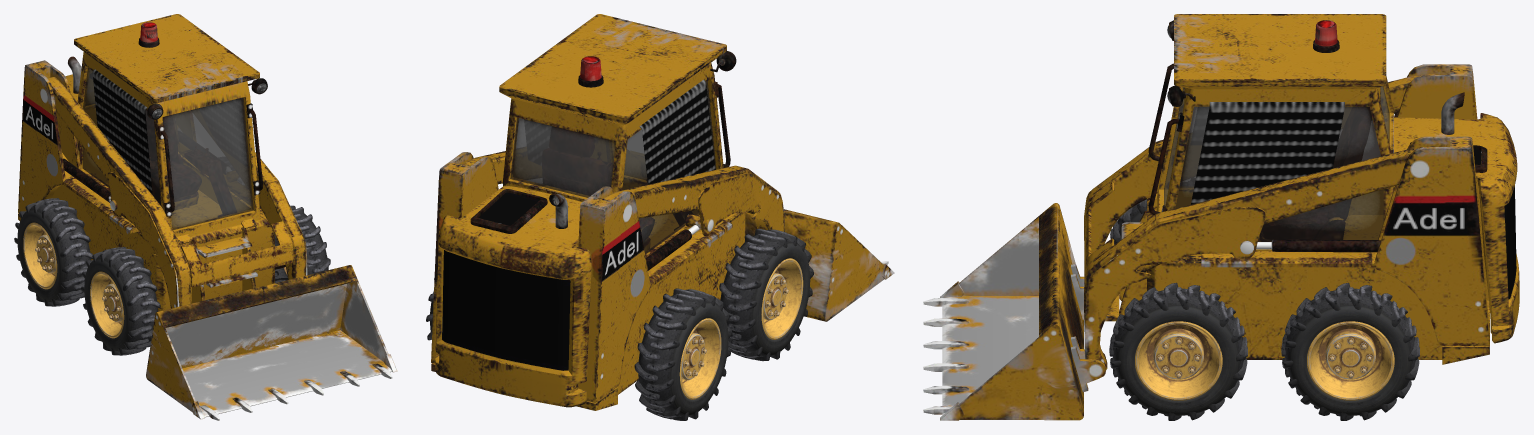
Rendered from loader2.glb.
The picture shows the model from 3 angles, left to right: view 1: azimuth 30°, elevation 25°; view 2: azimuth 150°, elevation 25°; view 3: azimuth 270°, elevation 25°; orthographic projection. The views are drawn at different scales.
Visible parts, largest first — view 1: Body001_Material #280_0, Body001_Material #239_0, Body001_Material #255_0, Body001_Material #0_0, Body001_Material #223_0, Body001_Material #268_0; view 2: Body001_Material #280_0, Body001_Material #239_0, Body001_Material #255_0, Body001_Material #0_0, Body001_Material #223_0, Body001_Material #268_0; view 3: Body001_Material #280_0, Body001_Material #239_0, Body001_Material #0_0, Body001_Material #223_0, Body001_Material #255_0, Body001_Material #268_0.
Part boxes in pixels (x1=…): Body001_Material #280_0: x1=18, y1=14, x2=397, y2=420; Body001_Material #239_0: x1=14, y1=198, x2=330, y2=355; Body001_Material #255_0: x1=82, y1=68, x2=253, y2=229; Body001_Material #0_0: x1=92, y1=69, x2=152, y2=193; Body001_Material #223_0: x1=23, y1=222, x2=287, y2=338; Body001_Material #268_0: x1=140, y1=22, x2=266, y2=118; Body001_Material #280_0: x1=431, y1=14, x2=894, y2=410; Body001_Material #239_0: x1=426, y1=228, x2=813, y2=420; Body001_Material #255_0: x1=510, y1=81, x2=716, y2=254; Body001_Material #0_0: x1=639, y1=79, x2=715, y2=184; Body001_Material #223_0: x1=679, y1=258, x2=803, y2=399; Body001_Material #268_0: x1=580, y1=56, x2=601, y2=81; Body001_Material #280_0: x1=923, y1=14, x2=1519, y2=420; Body001_Material #239_0: x1=1109, y1=199, x2=1419, y2=420; Body001_Material #0_0: x1=1191, y1=102, x2=1344, y2=204; Body001_Material #223_0: x1=1135, y1=321, x2=1394, y2=400; Body001_Material #255_0: x1=1164, y1=86, x2=1389, y2=241; Body001_Material #268_0: x1=1167, y1=20, x2=1337, y2=103.
Size of the model in its own units: 1.78 by 2.24 by 3.57.
Materials: 6 (6 with a texture image).
